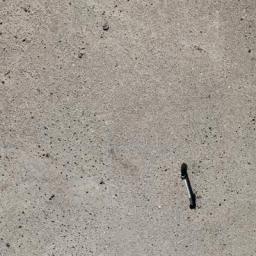FOD: (177, 161, 203, 213)
